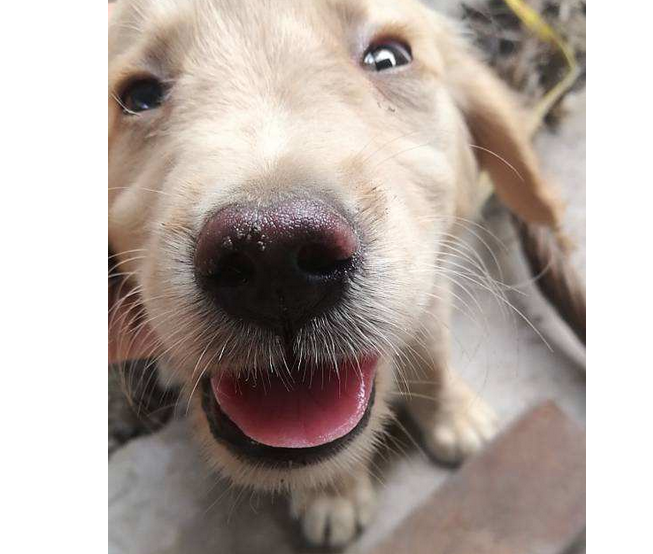nose: (192, 206, 370, 325)
